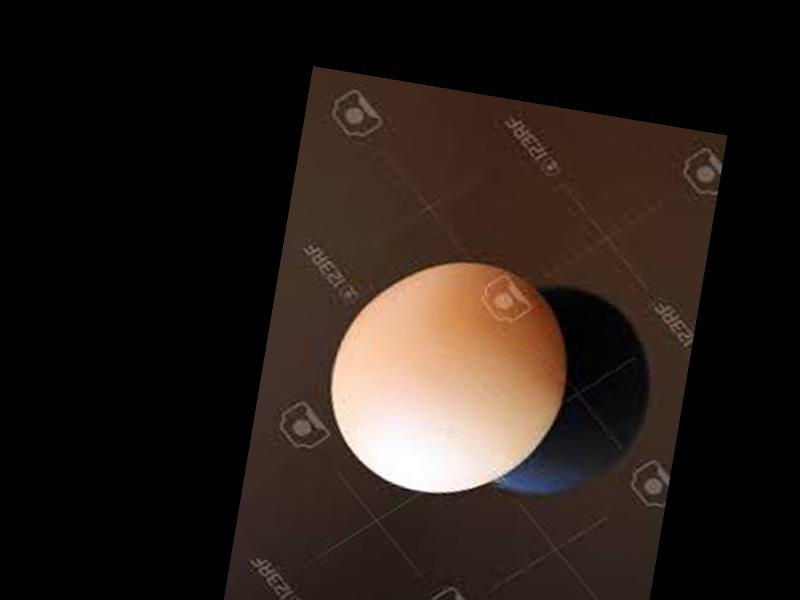Eggs: (314, 243, 584, 513)
